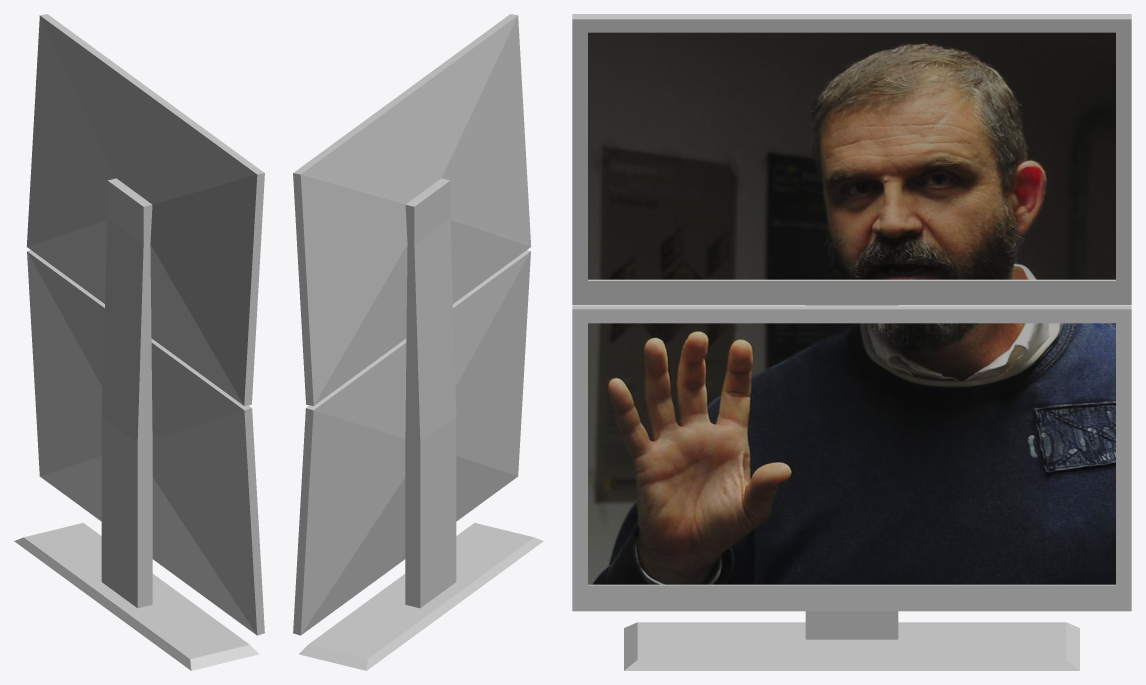
The model's file is Monitors_scateni.fbx.
3 views of the same model, side by side, from view 1: azimuth 30°, elevation 25°; view 2: azimuth 150°, elevation 25°; view 3: azimuth 270°, elevation 25° (orthographic). The views are drawn at different scales.
Parts seen in each view (by area): view 1: Monitor; view 2: Monitor; view 3: Screen, Monitor.
Part boxes in pixels (x1=…): Monitor: x1=14, y1=14, x2=264, y2=670; Monitor: x1=293, y1=14, x2=543, y2=670; Screen: x1=588, y1=32, x2=1115, y2=584; Monitor: x1=572, y1=14, x2=1131, y2=670.
Size of the model in its own units: 0.4442 by 3.11 by 2.45.
